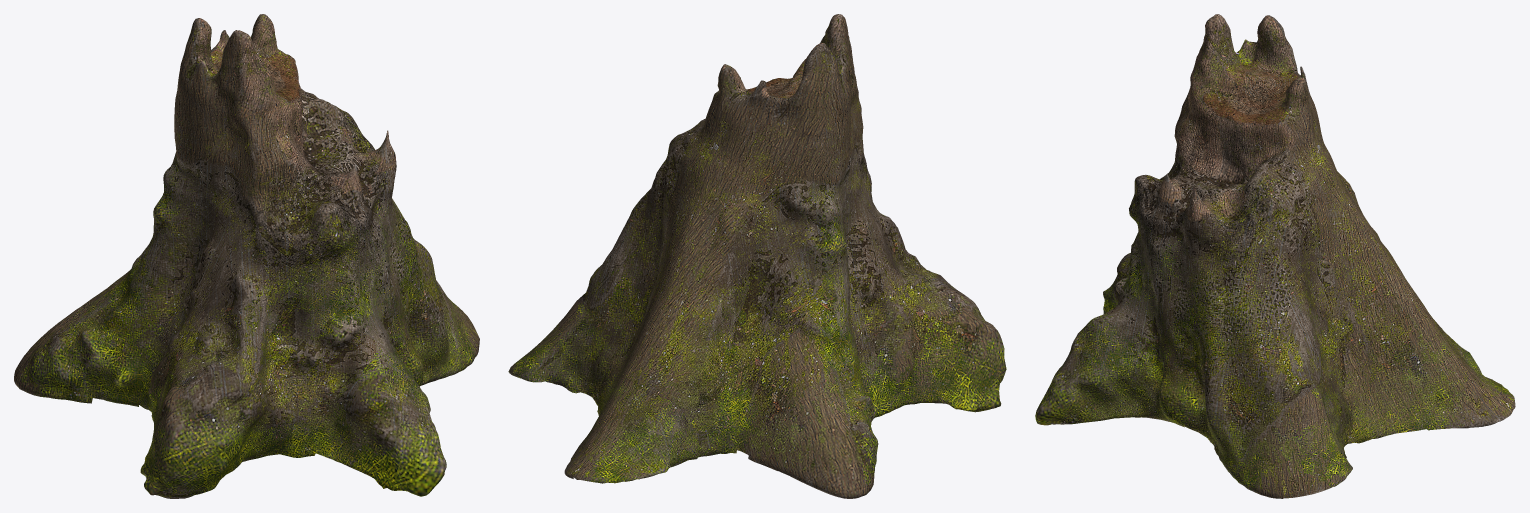
File: PW_Tree_Stump_03.fbx
3 renders of one model, left to right at view 1: azimuth 30°, elevation 25°; view 2: azimuth 150°, elevation 25°; view 3: azimuth 270°, elevation 25°, orthographic. The views are drawn at different scales.
Visible parts, largest first — view 1: PW_Tree_Stump_3_LOD0; view 2: PW_Tree_Stump_3_LOD0; view 3: PW_Tree_Stump_3_LOD0.
Part boxes in pixels (bbox=[...]): PW_Tree_Stump_3_LOD0: bbox=[14, 14, 479, 498]; PW_Tree_Stump_3_LOD0: bbox=[508, 14, 1006, 498]; PW_Tree_Stump_3_LOD0: bbox=[1035, 14, 1515, 498].
Size of what is drawn, in the model's own units: 121 by 116 by 136.
